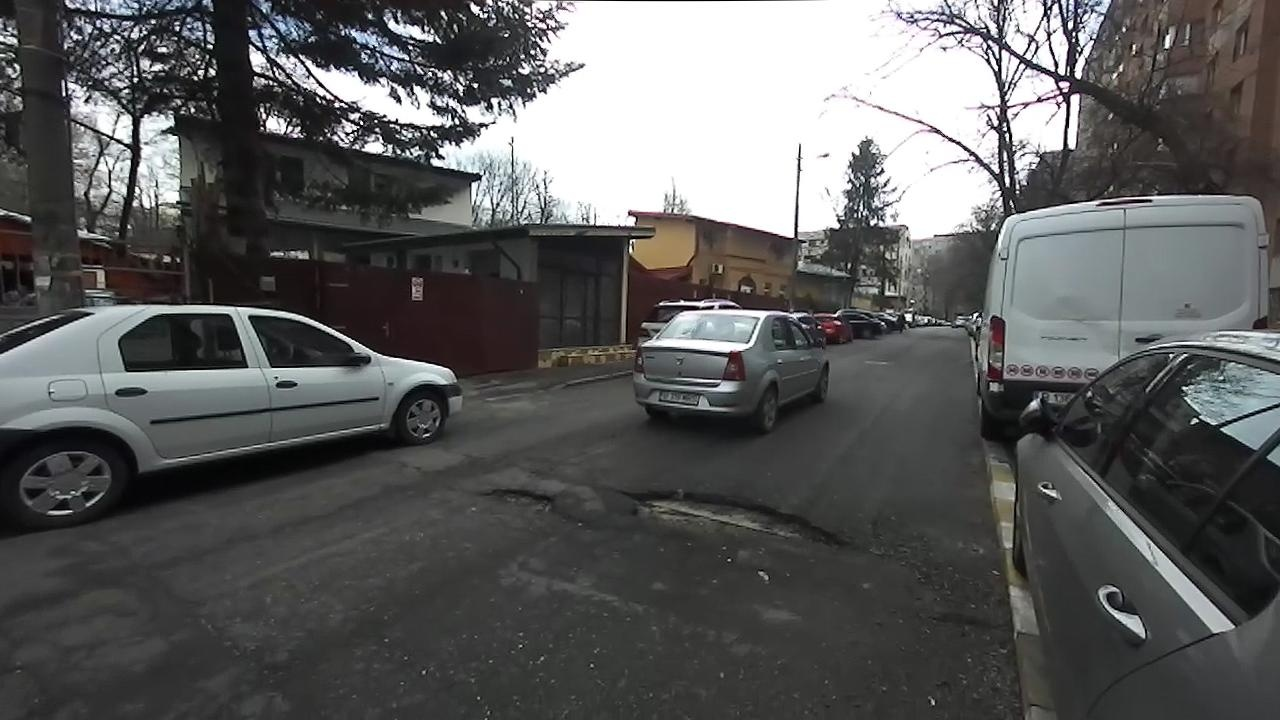pothole: (618, 483, 859, 557), (476, 483, 565, 521)
